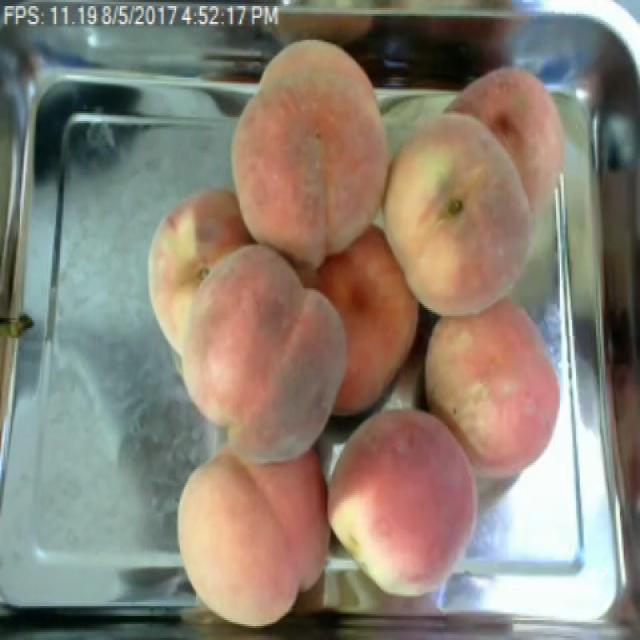Fruit: (140, 207, 359, 465), (222, 26, 410, 274), (368, 103, 545, 334), (164, 433, 343, 638), (319, 398, 489, 610), (419, 288, 573, 481)
